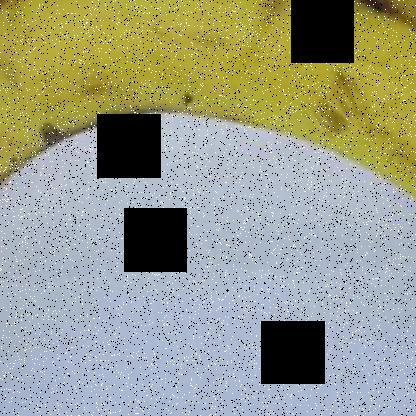ripe: (1, 1, 415, 234)
